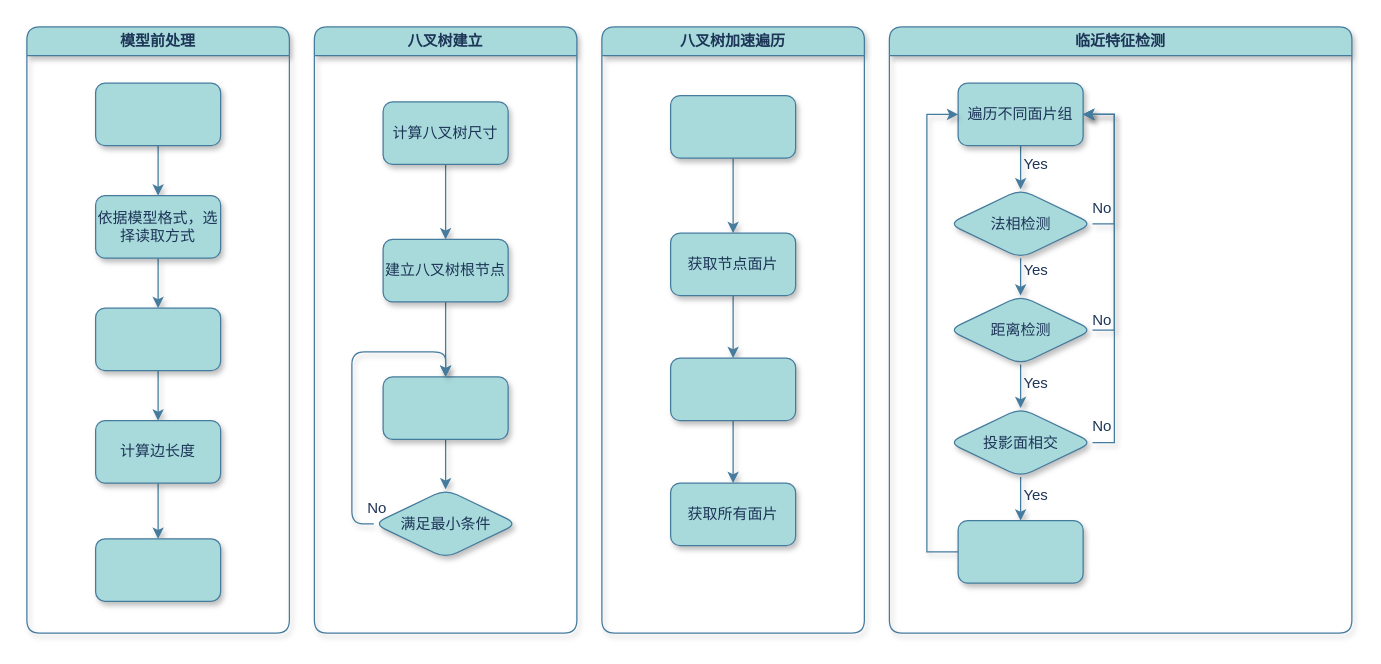
Image size: 1381x664. Some labels were removed from this diagram. Each missing label, with the centre of its shape:
"区分不同模型" belongs at (158,571).
"细分子节点" belongs at (446,409).
"获取与内部面片相交的所有子节点" belongs at (733,390).
"计算面片单位法向" belongs at (158,340).
"记录接触面" belongs at (1021,553).
"输入文件名" belongs at (158,115).
"选中八叉树子节点" belongs at (733,128).
